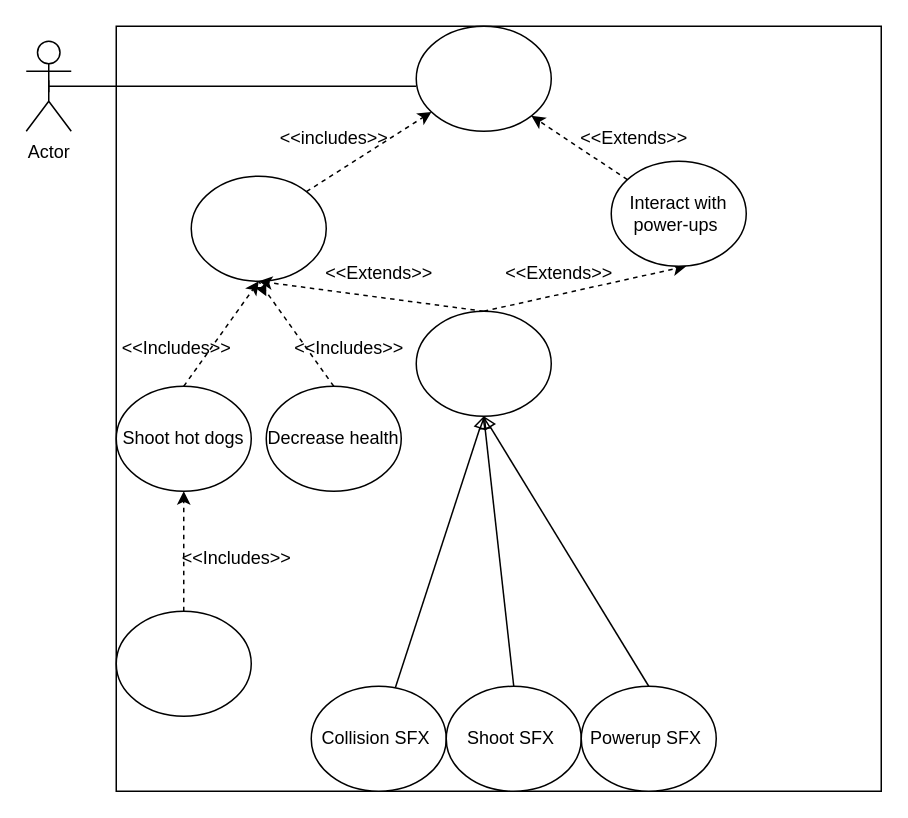
The diagram is 908 pixels wide and 818 high, and some of its shapes have lost their labels. Here are the shapes that lost their labels. From the top down, the box of each, then its label:
(415, 25, 551, 131): Interacts with items
(190, 175, 326, 281): Interact with enemy
(415, 310, 551, 416): Play SFX
(115, 610, 251, 716): Update enemy count
